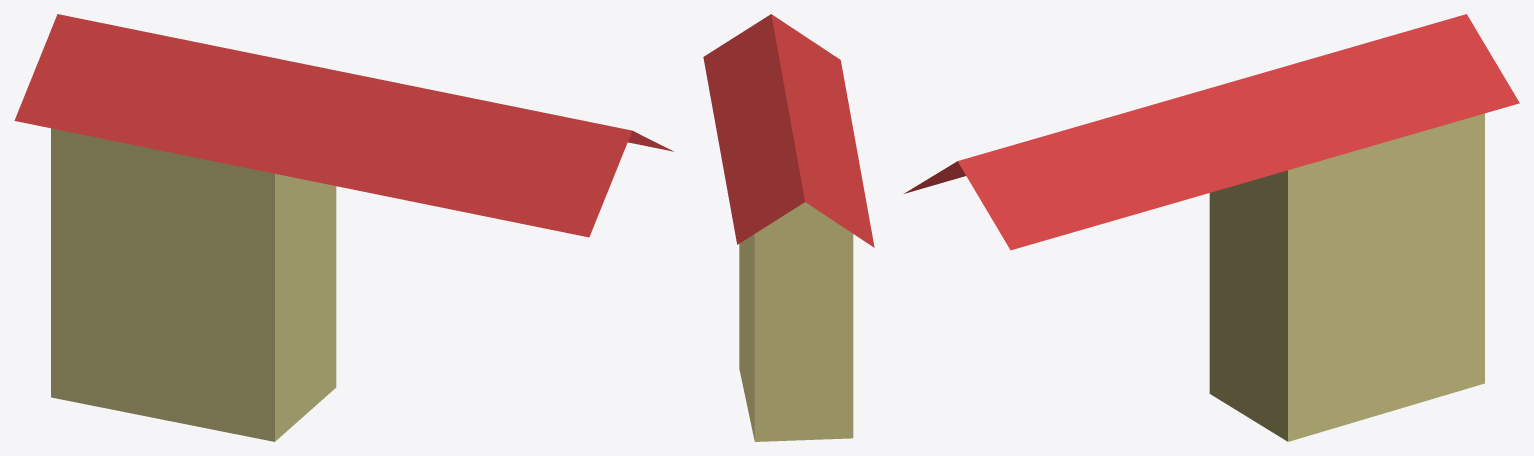
The picture shows the model from 3 angles, left to right: view 1: azimuth 30°, elevation 25°; view 2: azimuth 150°, elevation 25°; view 3: azimuth 270°, elevation 25°; orthographic projection. The views are drawn at different scales.
Bounding box in the file's own units: 14.82 × 18.08 × 10.99.
